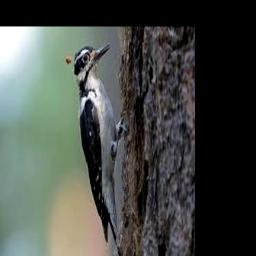Woodpecker: (66, 44, 126, 252)
